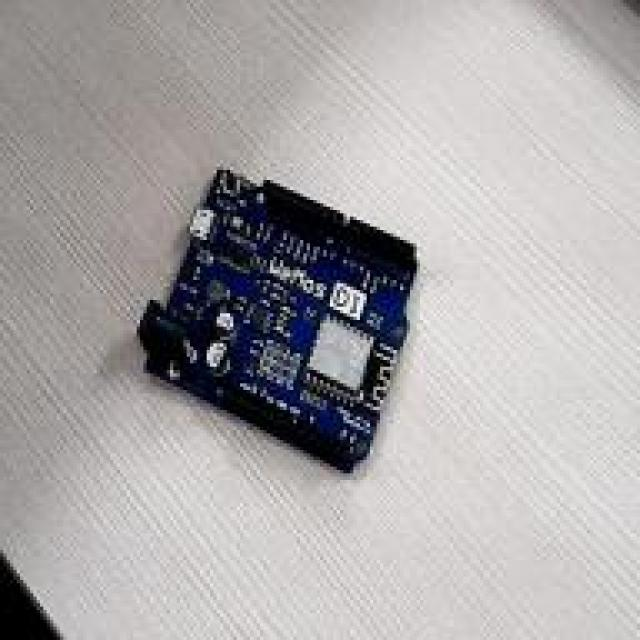Wemos: (141, 171, 414, 468)
